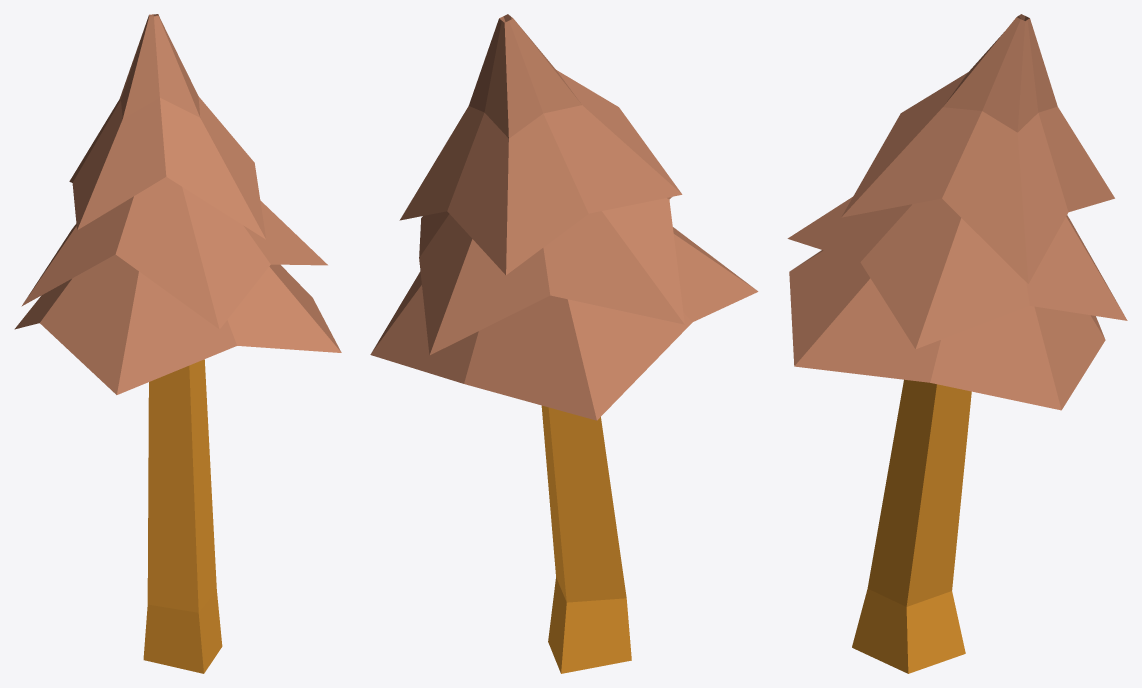
Rendered from pine_tree_5.obj.
The picture shows the model from 3 angles, left to right: view 1: azimuth 30°, elevation 25°; view 2: azimuth 150°, elevation 25°; view 3: azimuth 270°, elevation 25°; orthographic projection. The views are drawn at different scales.
Parts seen in each view (by area): view 1: pine_tree_5; view 2: pine_tree_5; view 3: pine_tree_5.
Part boxes in pixels (left/top/right/bottom): pine_tree_5: left=14, top=14, right=341, bottom=673; pine_tree_5: left=370, top=14, right=758, bottom=673; pine_tree_5: left=787, top=14, right=1127, bottom=673.
Bounding box in the file's own units: 12.61 × 26.59 × 12.63.
